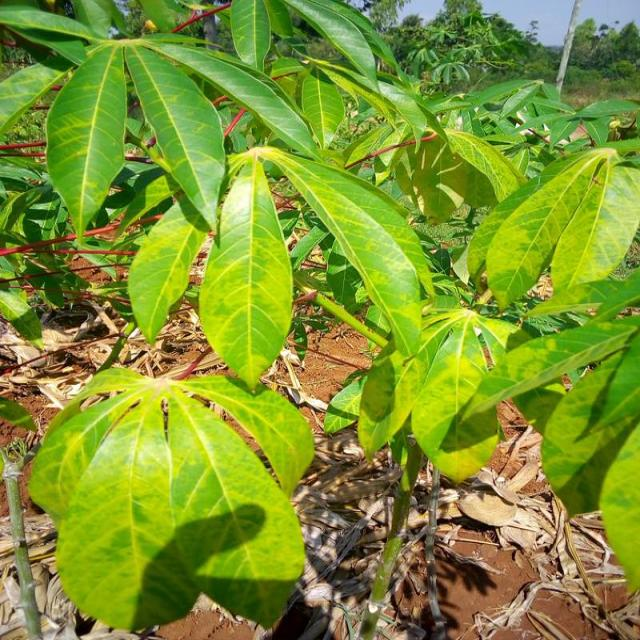cassava leaf: (2, 1, 638, 632), (36, 370, 310, 633), (254, 144, 431, 358), (484, 145, 638, 313), (196, 156, 294, 390), (124, 41, 226, 232), (43, 40, 127, 242)
